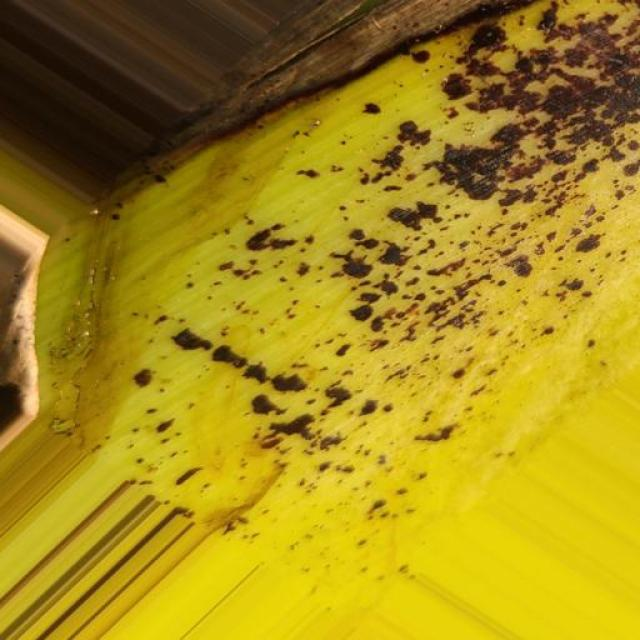Anthracnose: (55, 6, 640, 576)
